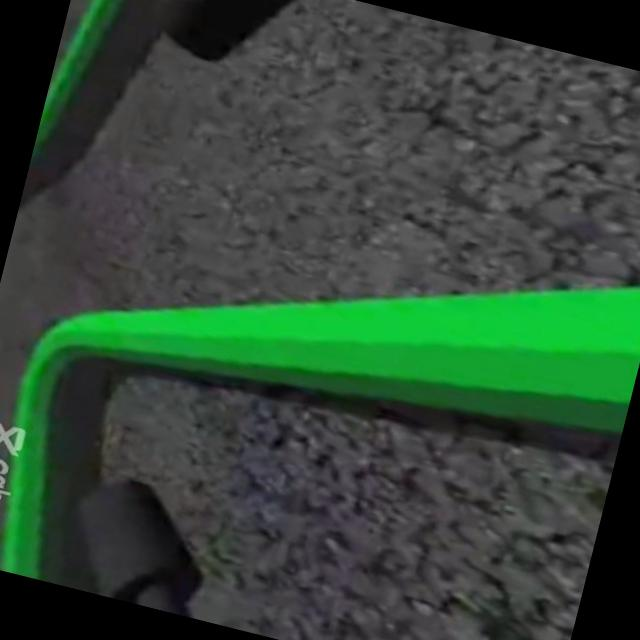gas: (7, 136, 640, 550)
